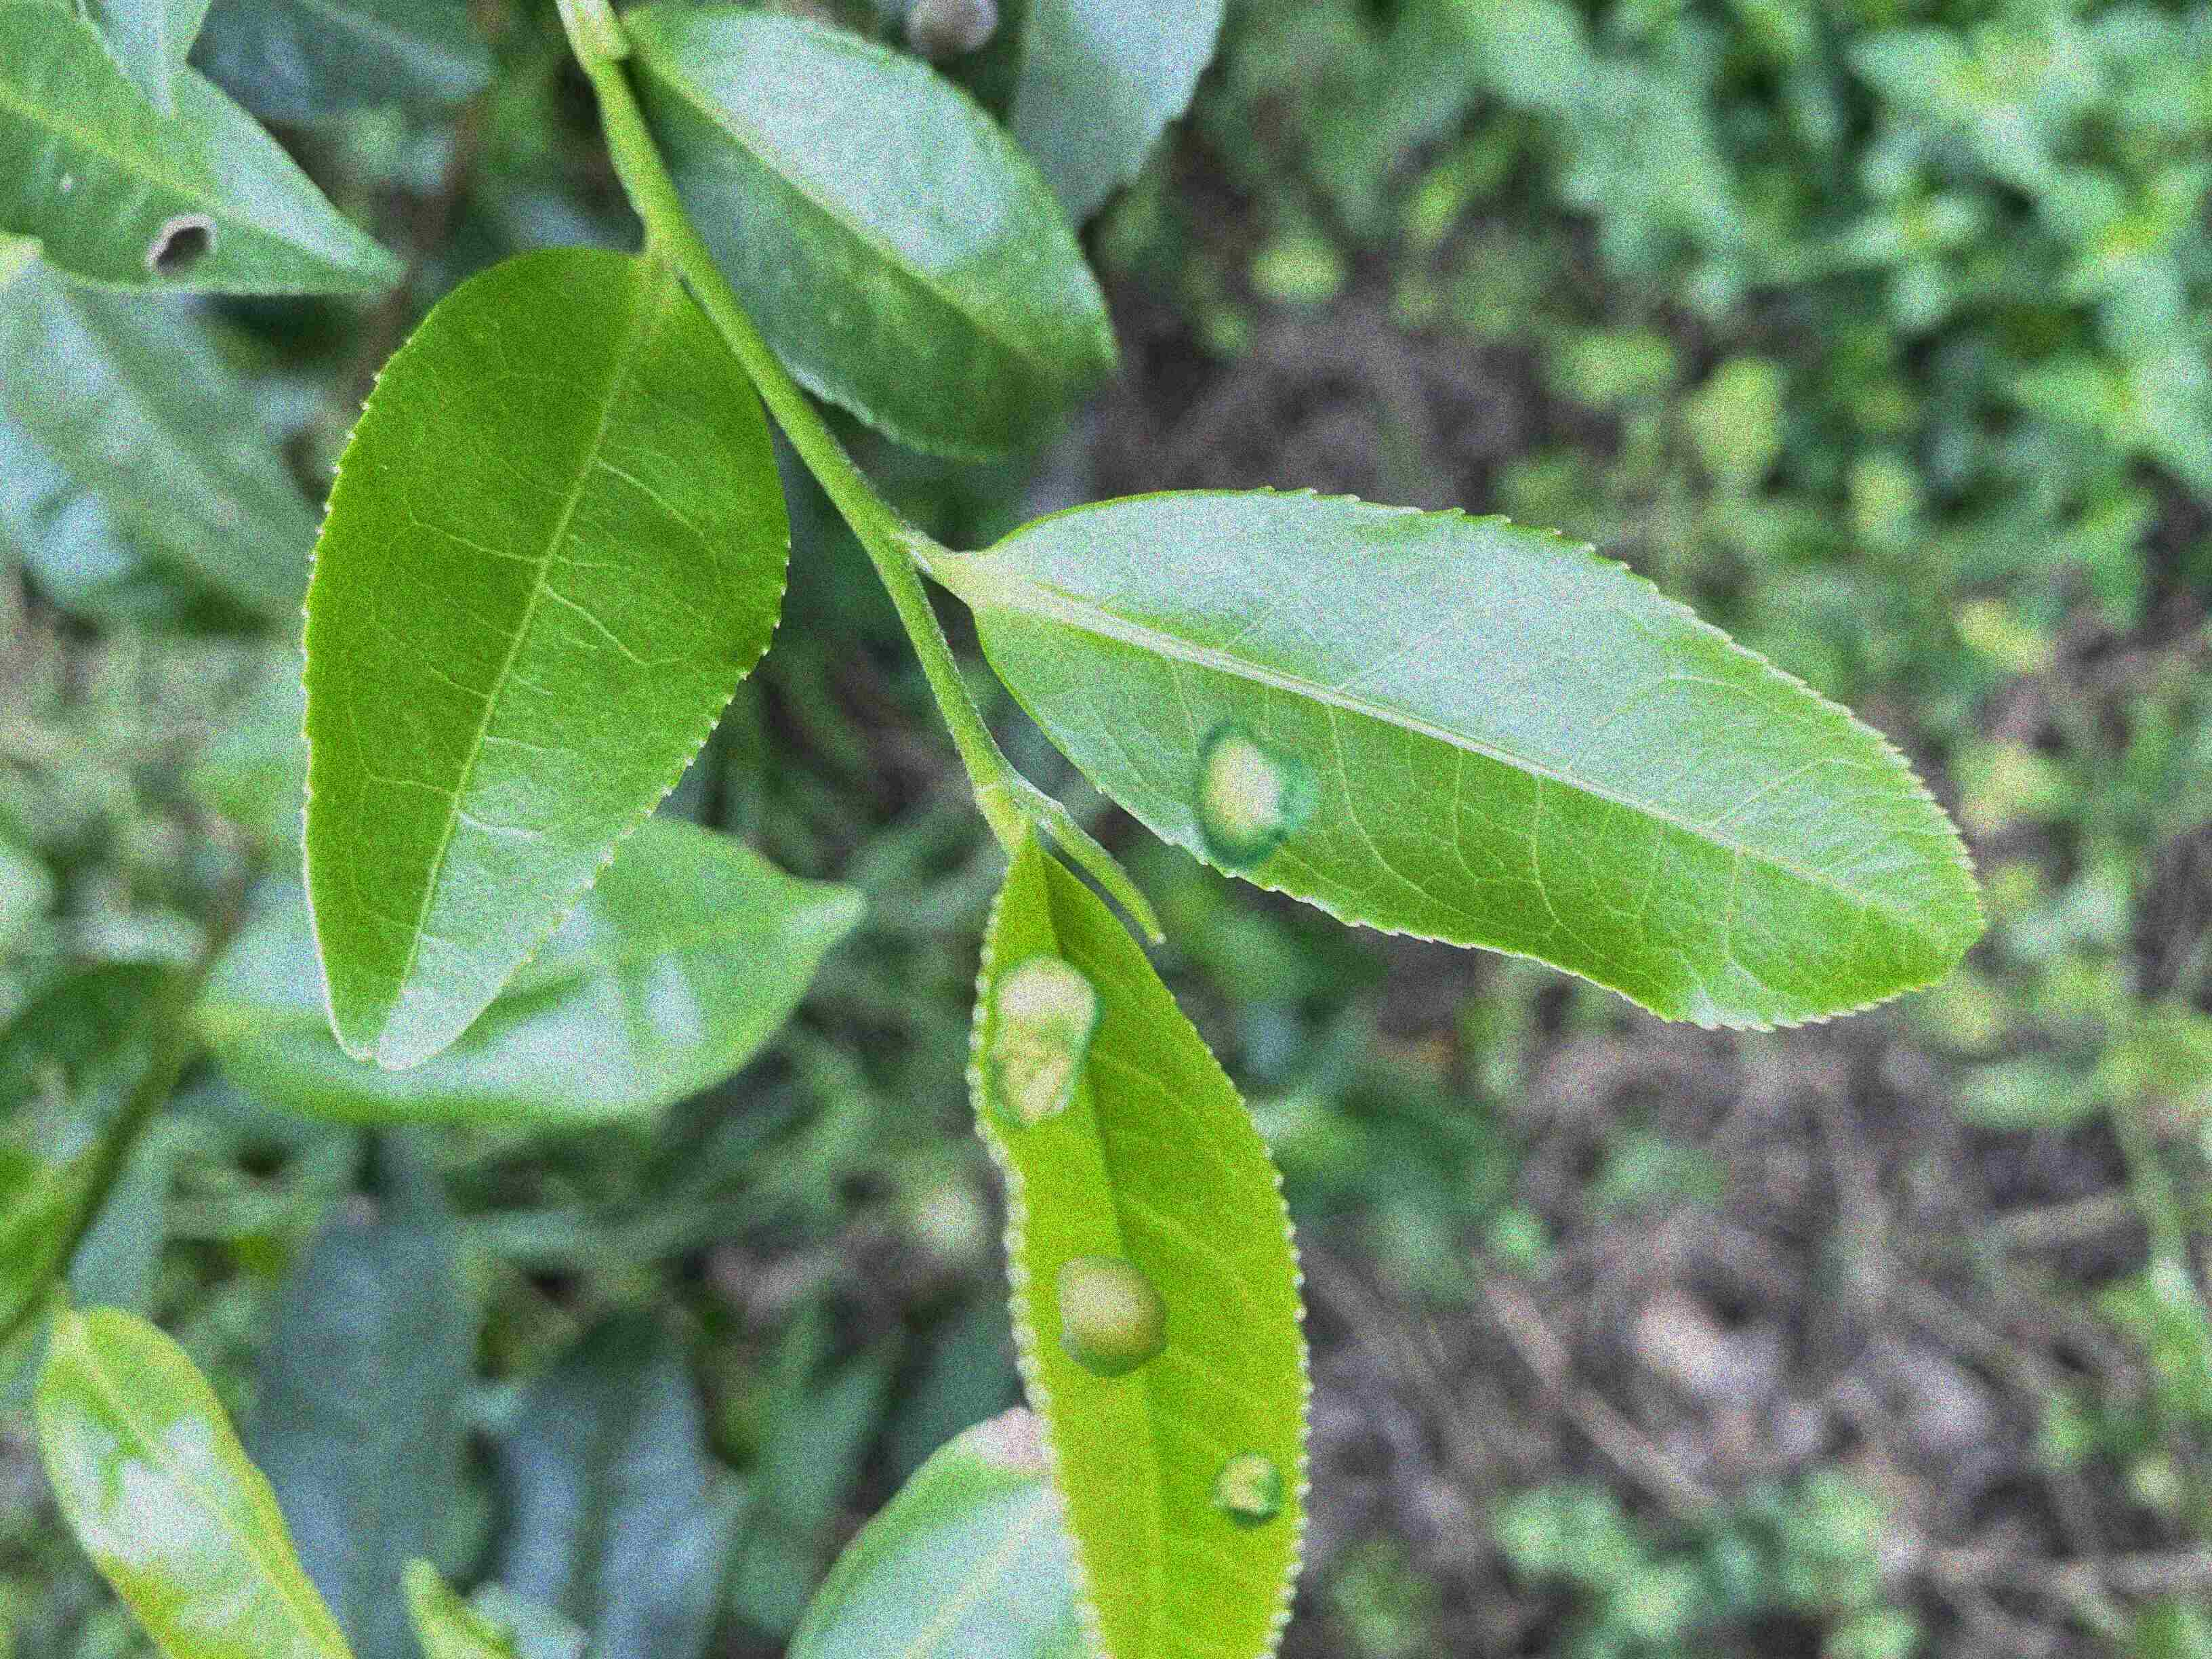chabing_high: (967, 833, 1317, 1657)
chabing_low: (979, 479, 1989, 1037)
chihuo_low: (0, 3, 408, 298)
healthy: (294, 239, 796, 1072)
